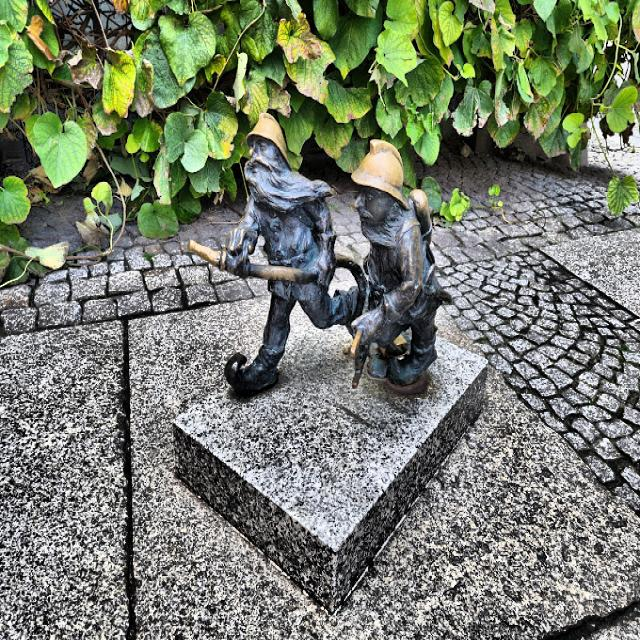Pozarki: (188, 113, 452, 397)
